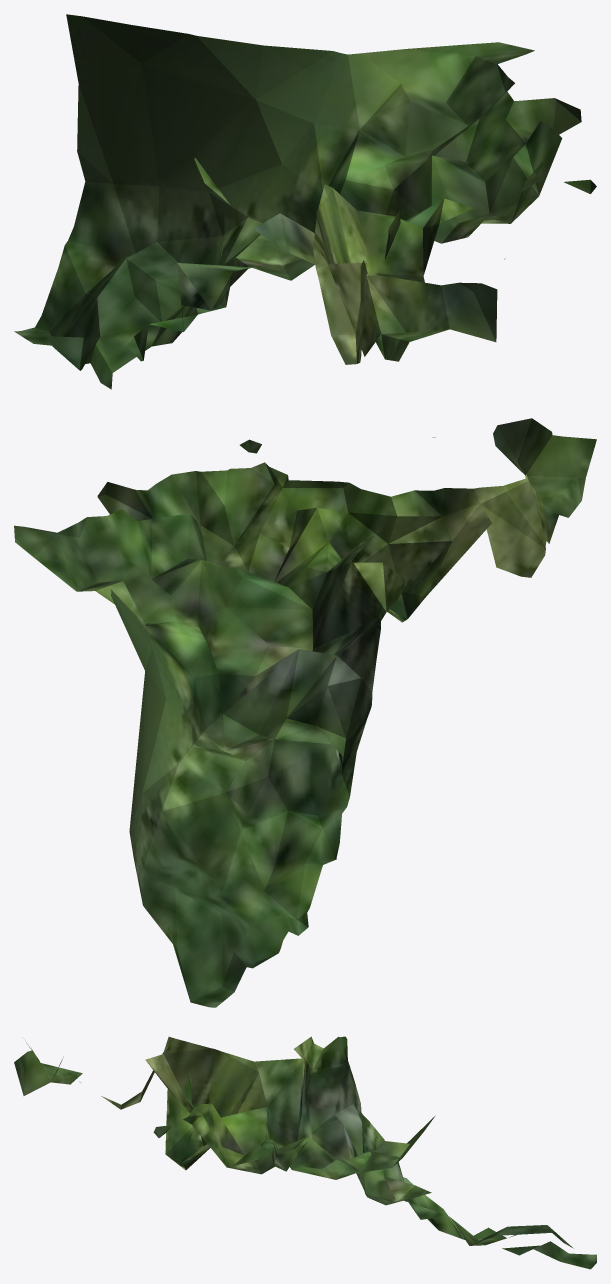
3 views of the same model, one above another, from view 1: azimuth 30°, elevation 25°; view 2: azimuth 150°, elevation 25°; view 3: azimuth 270°, elevation 25° (orthographic). The views are drawn at different scales.
Bounding box in the file's own units: 7.62 × 6.15 × 14.62.
1 material, 1 textured.
